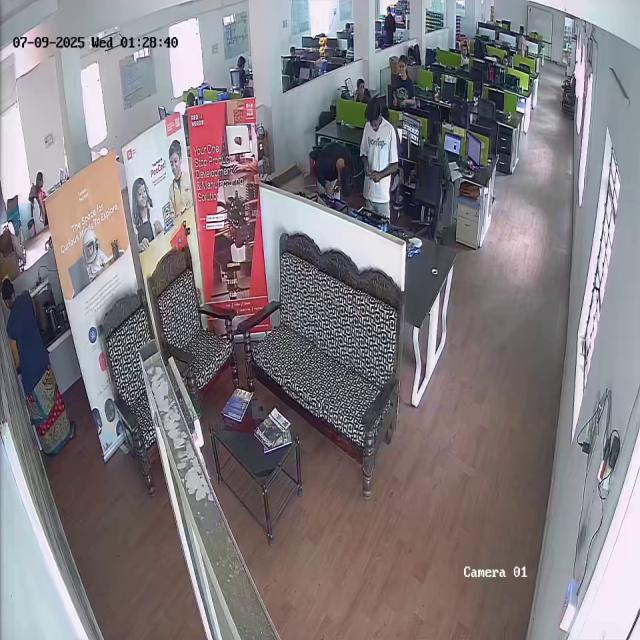person: (1, 277, 56, 458), (360, 100, 399, 222), (310, 141, 354, 197), (424, 121, 454, 202), (392, 56, 416, 106), (31, 171, 49, 214)
